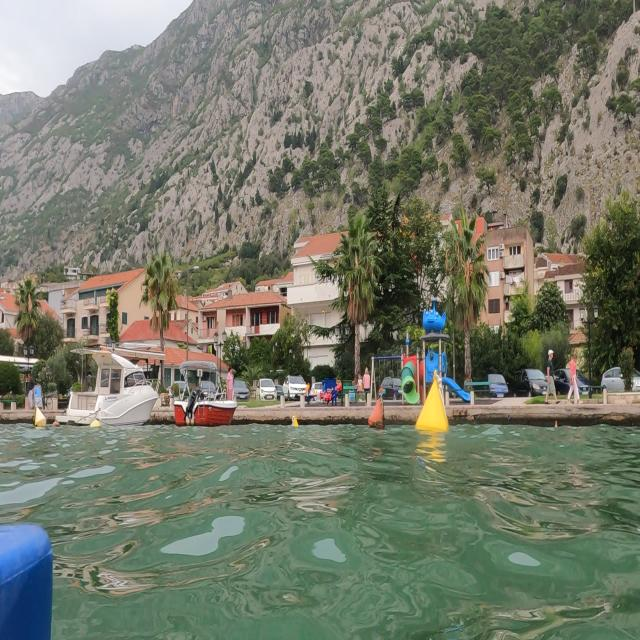boat: (65, 333, 164, 439), (164, 349, 245, 435)
buoy: (416, 370, 453, 446), (366, 392, 390, 438)
